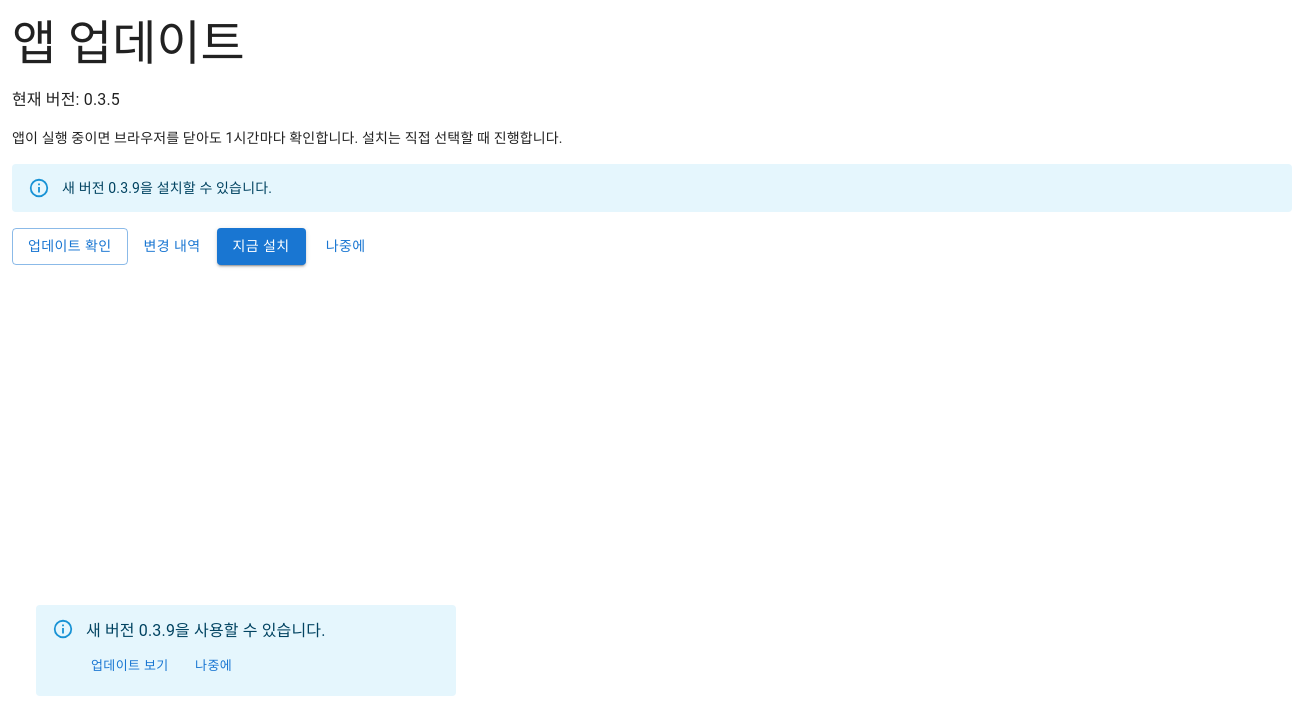
Scenario: install disables duplicate actions and shows download progress
What coordinates should you click on to do the following:
click the button "지금 설치"
I would click on:
 (261, 246)
Its box is [217, 228, 306, 264].
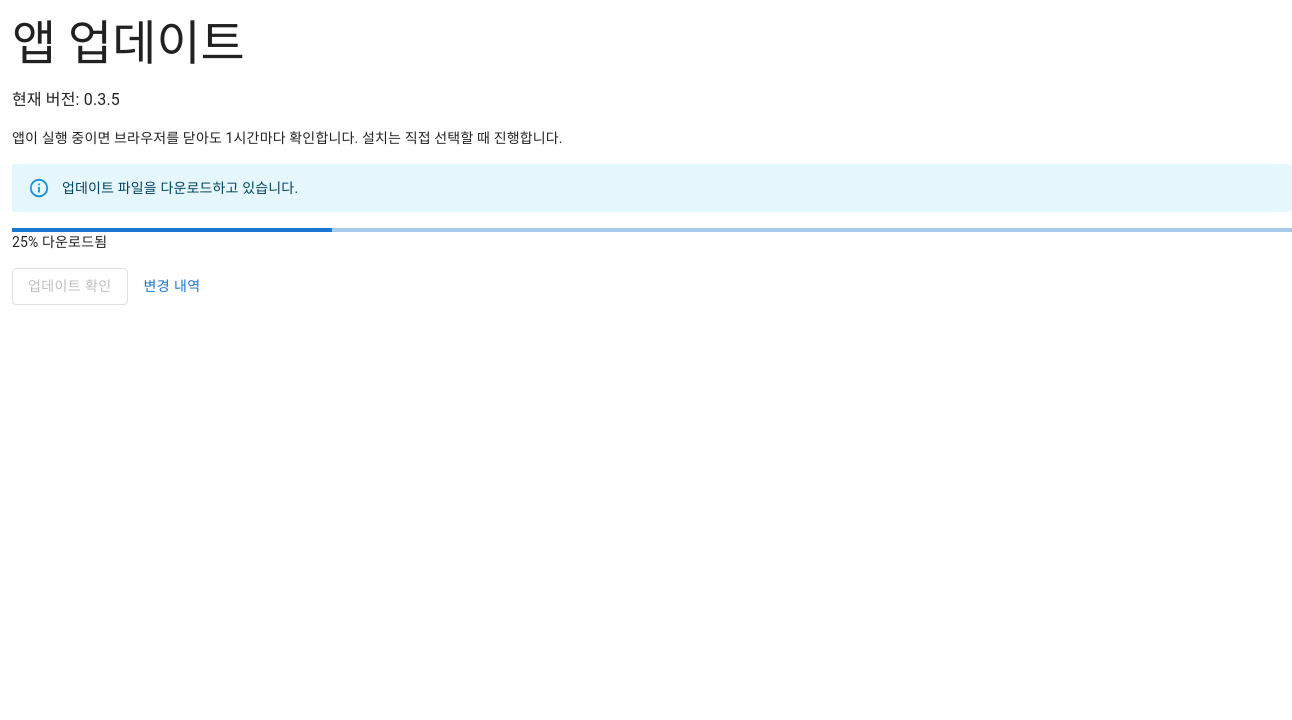
Now the text "25% 다운로드됨" is shown, box [12, 234, 107, 250]
Now the button "업데이트 확인" is disabled, box [12, 268, 128, 305]
Now the button "지금 설치" is gone
